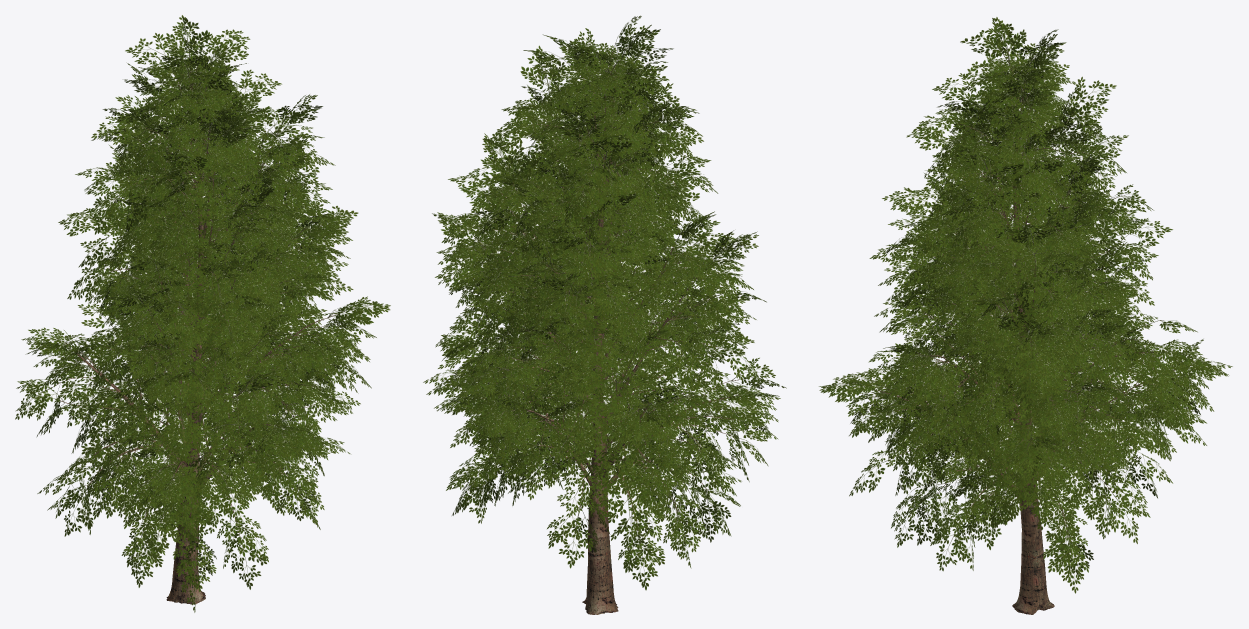
Rendered from tree.glb.
3 views of the same model, side by side, from view 1: azimuth 30°, elevation 25°; view 2: azimuth 150°, elevation 25°; view 3: azimuth 270°, elevation 25° (orthographic).
Parts seen in each view (by area): view 1: Tree; view 2: Tree; view 3: Tree.
Boxes of the visible parts, left/top/right/bottom form: Tree: left=15, top=15, right=390, bottom=612; Tree: left=423, top=15, right=786, bottom=614; Tree: left=819, top=17, right=1232, bottom=614.
Bounding box in the file's own units: 4.24 × 7.59 × 4.99.
2 materials, 2 textured.
